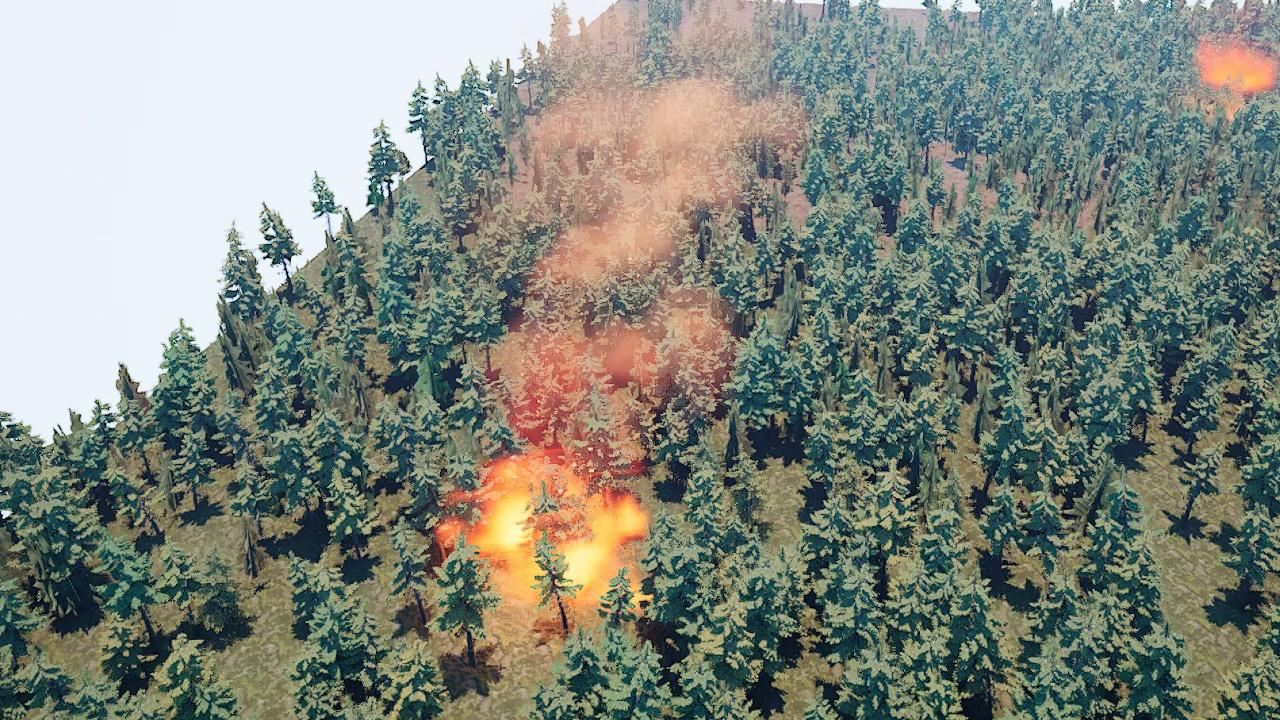fire: (439, 454, 648, 603), (1204, 61, 1275, 97)
smoke: (494, 0, 818, 464), (1197, 0, 1280, 83)
